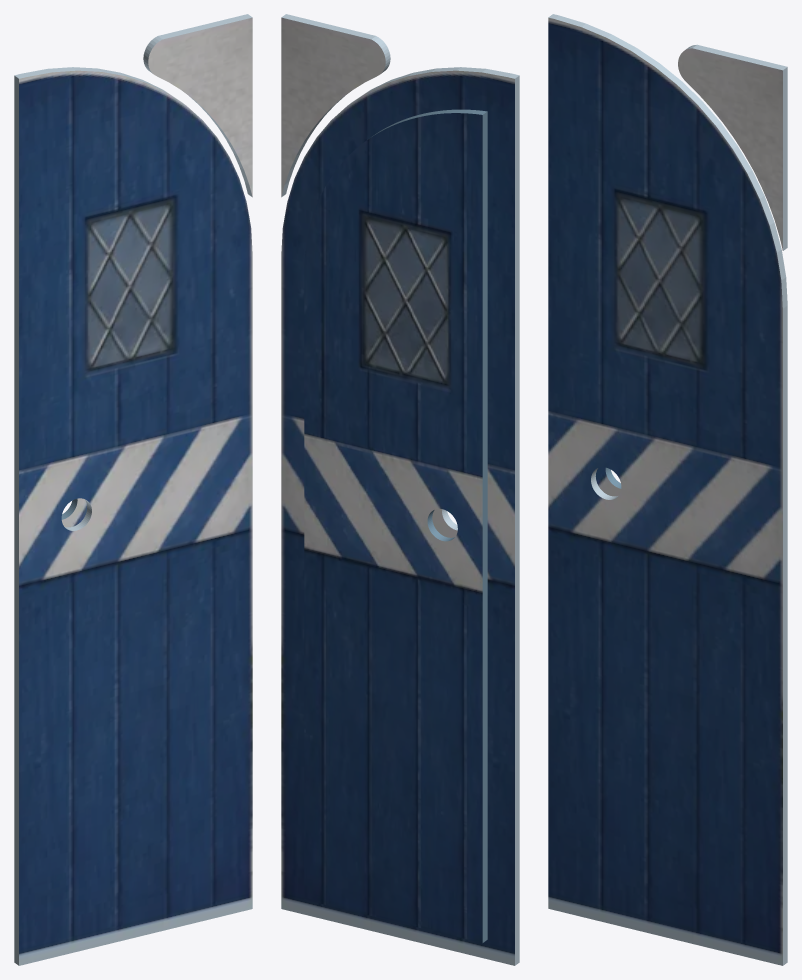
Rendered from right-leaf.glb.
3 views of the same model, side by side, from view 1: azimuth 30°, elevation 25°; view 2: azimuth 150°, elevation 25°; view 3: azimuth 330°, elevation 25° (orthographic).
Visible parts, largest first — view 1: right-leaf; view 2: right-leaf; view 3: right-leaf.
Boxes of the visible parts, x1,y1,x2,y2 form: right-leaf: [14, 14, 252, 965]; right-leaf: [281, 14, 519, 965]; right-leaf: [548, 14, 787, 965].
Bounding box in the file's own units: 252 × 918 × 36.
Materials: 4 (2 with a texture image).
